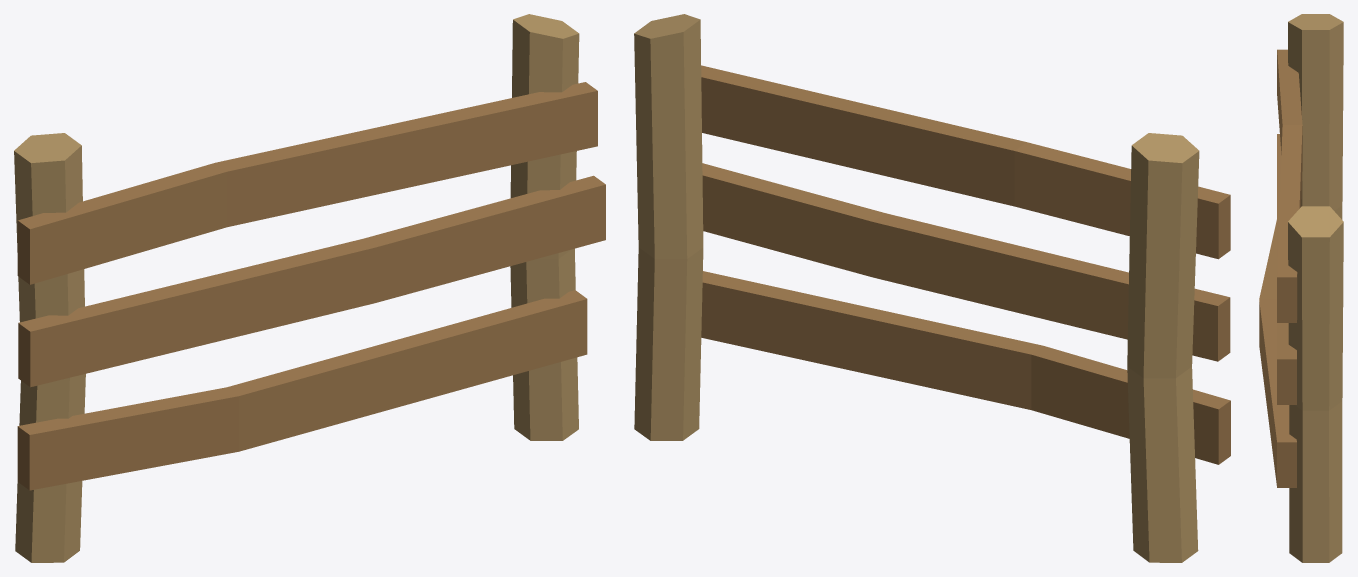
File: fence_01.fbx
3 renders of one model, left to right at view 1: azimuth 30°, elevation 25°; view 2: azimuth 150°, elevation 25°; view 3: azimuth 270°, elevation 25°, orthographic. The views are drawn at different scales.
Parts seen in each view (by area): view 1: fence_01; view 2: fence_01; view 3: fence_01.
Part boxes in pixels (bbox=[...]): fence_01: bbox=[14, 14, 605, 562]; fence_01: bbox=[634, 14, 1230, 562]; fence_01: bbox=[1259, 14, 1343, 562].
Size of the model in its own units: 165 by 112 by 25.57.
